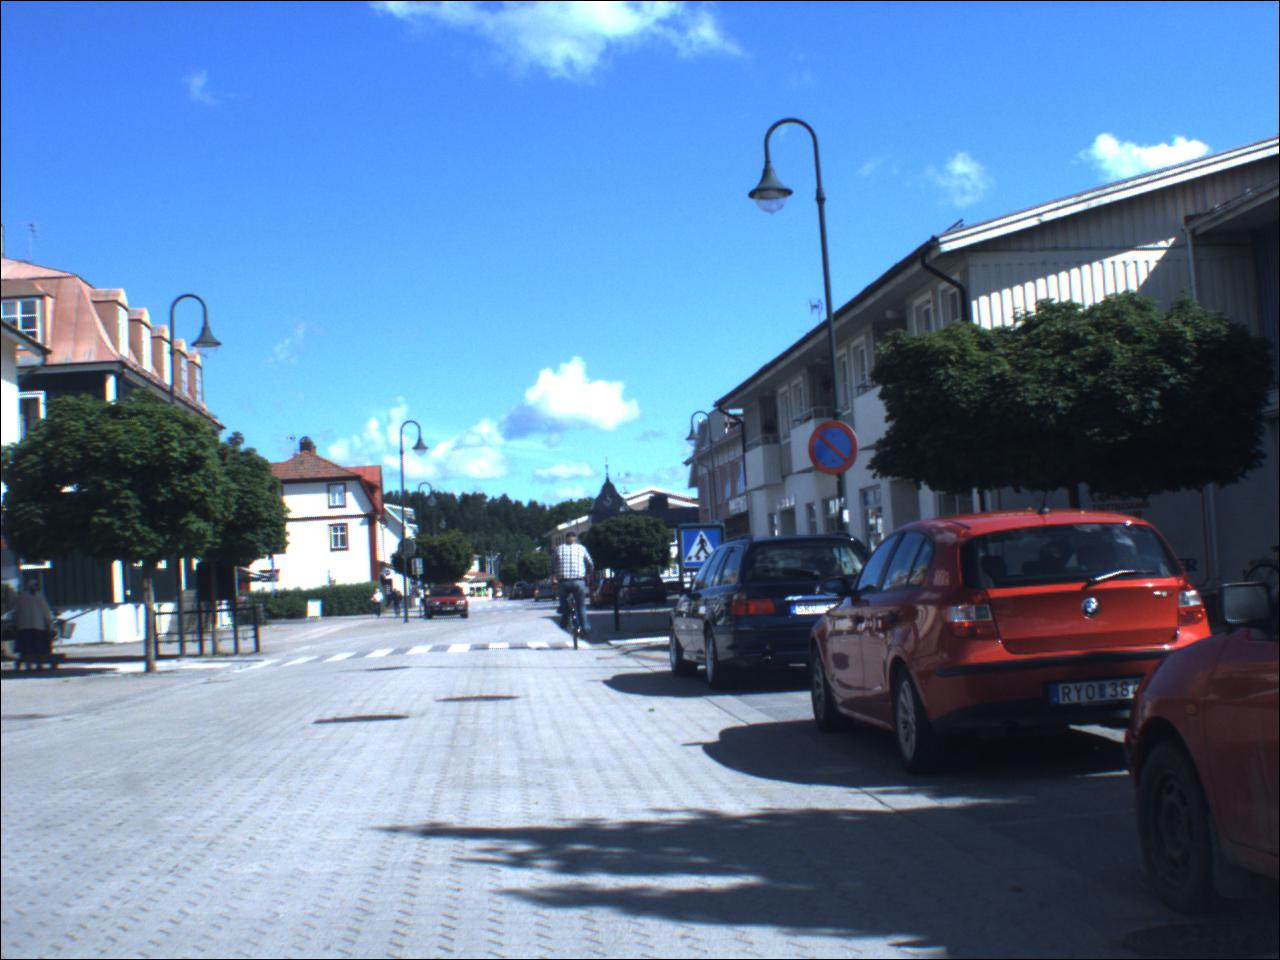NO_PARKING: (808, 422, 865, 479)
PEDESTRIAN_CROSSING: (682, 526, 729, 572)
